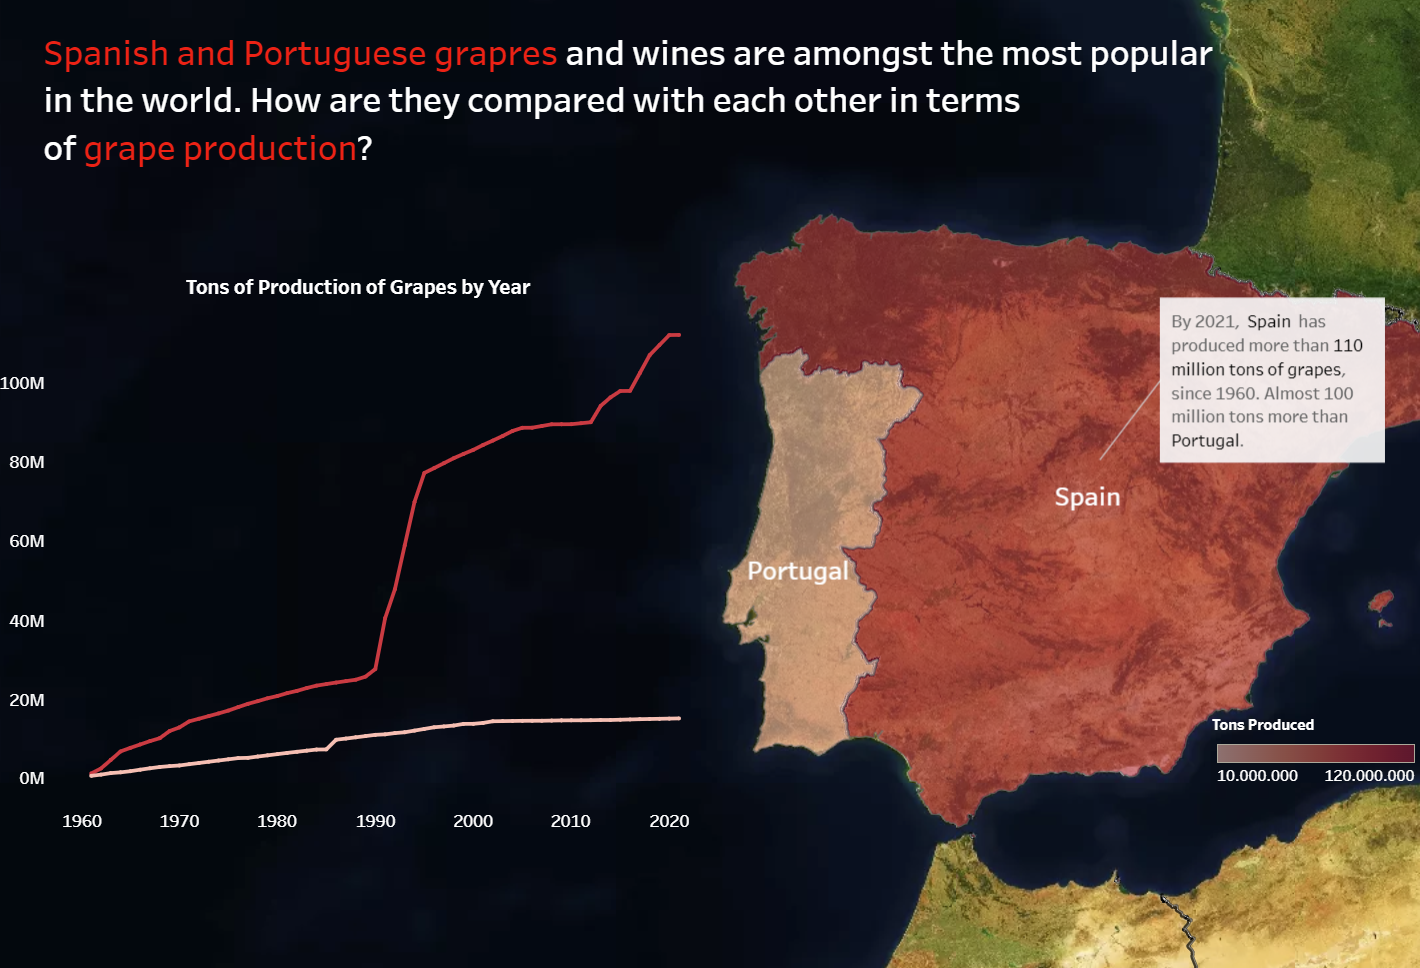

This screenshot's page, from the dashboard's own definition file:
{"tool":"tableau","page":{"name":"Dashboard","canvas":[1169,827],"ordinal":0},"visuals":[{"type":"worksheet","title":"Map","mark":"Multipolygon","box":[8,8,1153,811]},{"type":"text","box":[51,34,937,120]},{"type":"worksheet","title":"Production of Grapes","mark":"Line","rows":["Valores de campo da tabela dinâmica"],"cols":["year_date"],"box":[15,226,576,459]},{"type":"legend","title":"Map","param":"[federated.0ynqor71xakspq1cfqapb0otb4ih].[sum:Valores de campo da tabela dinâmic","box":[986,586,167,56]}]}

Visuals, with their boxes on the page's 1169x827 design canvas (x1, y1, x2, y2). These are canvas units, not pixel positions in the 1420x968 screenshot, which may show the page scaled, cropped or inside an application window:
"Map" worksheet (Multipolygon marks): [8,8,1161,819]
text: [51,34,988,154]
"Production of Grapes" worksheet (Line marks): [15,226,591,685]
"Map" legend: [986,586,1153,642]
